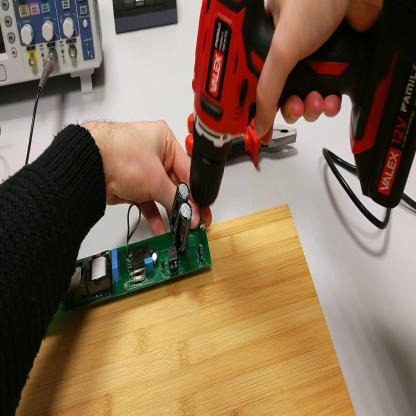electric screwdriver: (190, 1, 416, 215)
hand: (250, 2, 373, 141), (103, 118, 202, 242)
high voltage board: (56, 183, 212, 314)
oscilloscope: (2, 3, 104, 100)
pliers: (185, 115, 299, 169)
working area: (16, 205, 355, 416)
